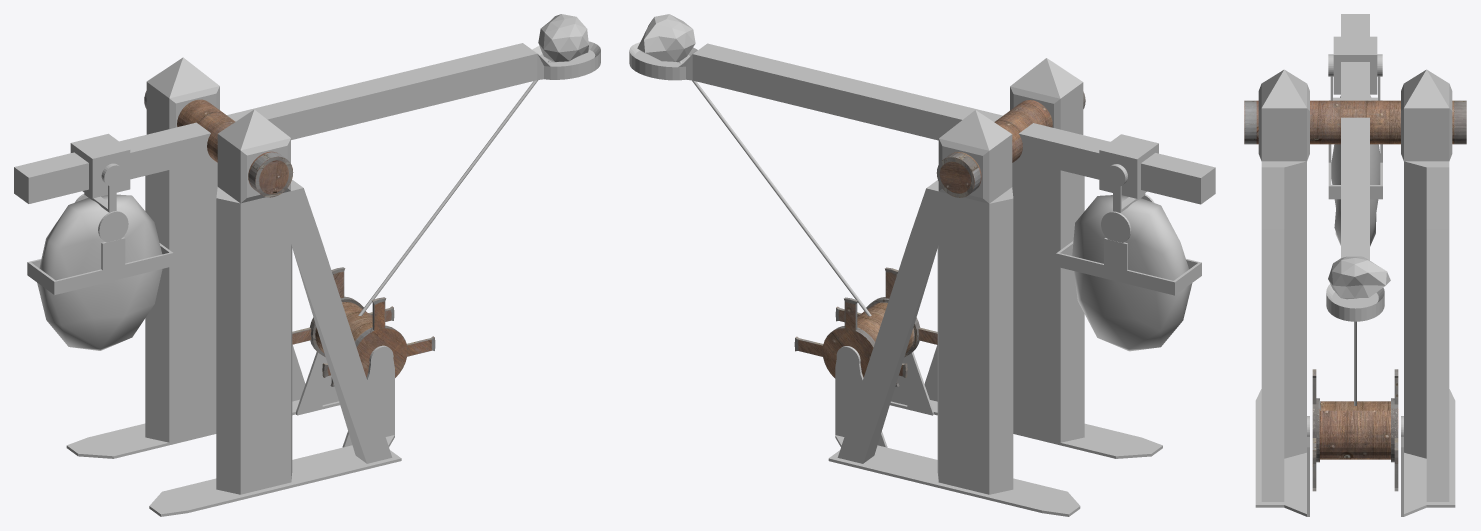
Rendered from Catapulte.fbx.
3 views of the same model, side by side, from view 1: azimuth 30°, elevation 25°; view 2: azimuth 150°, elevation 25°; view 3: azimuth 270°, elevation 25° (orthographic).
Visible parts, largest first — view 1: Montants, Perche, roche, Manivelle, meca3, Mecanisme, Munition, Corde, meca2; view 2: Montants, Perche, roche, Manivelle, meca3, Mecanisme, Munition, Corde, meca2; view 3: Montants, Perche, Manivelle, Mecanisme, Munition, roche, meca3, meca2.
Boxes of the visible parts, <box> form: Montants: <box>66,57,401,516</box>; Perche: <box>14,41,600,203</box>; roche: <box>37,194,162,350</box>; Manivelle: <box>292,267,435,386</box>; meca3: <box>27,194,173,294</box>; Mecanisme: <box>144,91,293,197</box>; Munition: <box>538,14,588,62</box>; Corde: <box>358,61,550,315</box>; meca2: <box>84,163,123,212</box>; Montants: <box>828,58,1162,516</box>; Perche: <box>629,42,1215,204</box>; roche: <box>1072,195,1192,351</box>; Manivelle: <box>794,267,937,387</box>; meca3: <box>1056,194,1201,295</box>; Mecanisme: <box>936,91,1085,197</box>; Munition: <box>637,14,695,62</box>; Corde: <box>679,61,871,316</box>; meca2: <box>1106,164,1145,212</box>; Montants: <box>1255,69,1455,516</box>; Perche: <box>1326,14,1384,321</box>; Manivelle: <box>1312,369,1398,491</box>; Mecanisme: <box>1244,100,1466,144</box>; Munition: <box>1328,256,1390,299</box>; roche: <box>1331,95,1380,246</box>; meca3: <box>1328,100,1382,199</box>; meca2: <box>1328,54,1382,100</box>.
Bounding box in the file's own units: 1139 × 705 × 380.
